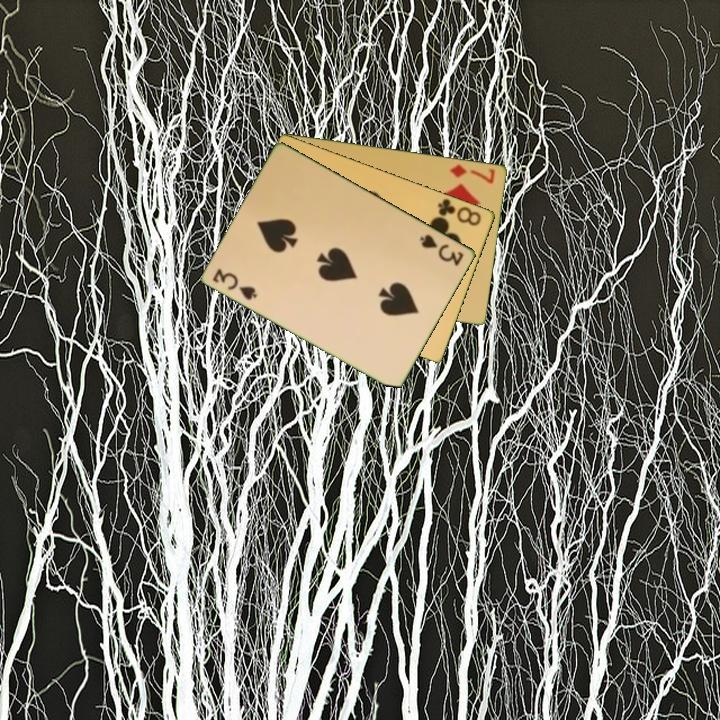3s: (416, 230, 467, 269), (209, 265, 260, 303)
7d: (447, 161, 498, 186)
8c: (434, 195, 484, 229)
